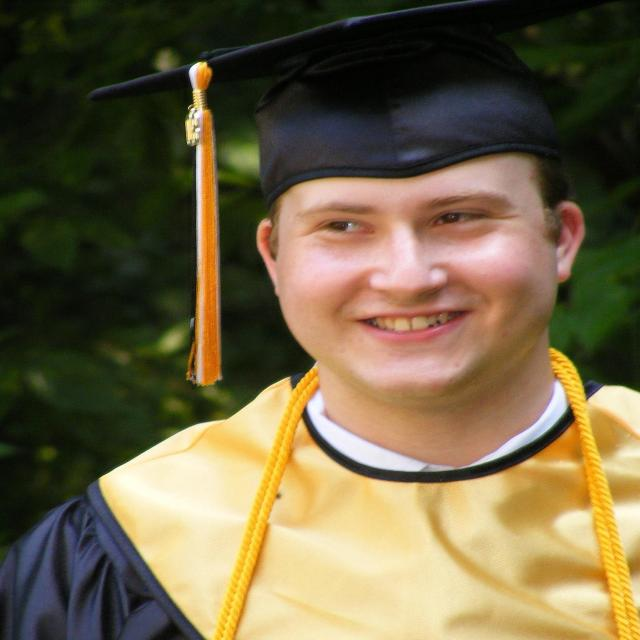no-glass: (315, 204, 491, 243)
